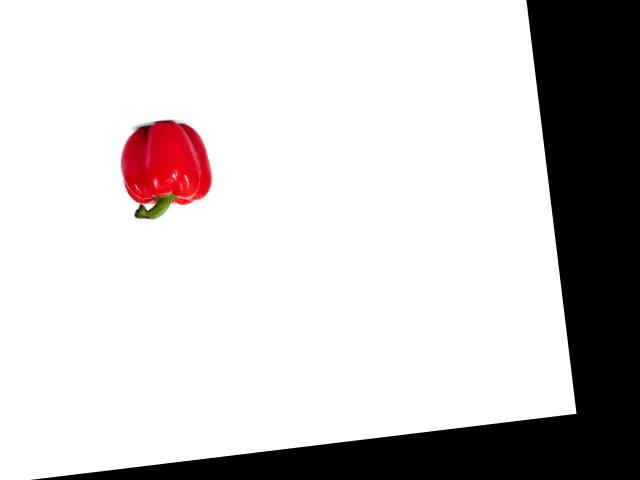bell_pepper: (113, 116, 221, 224)
